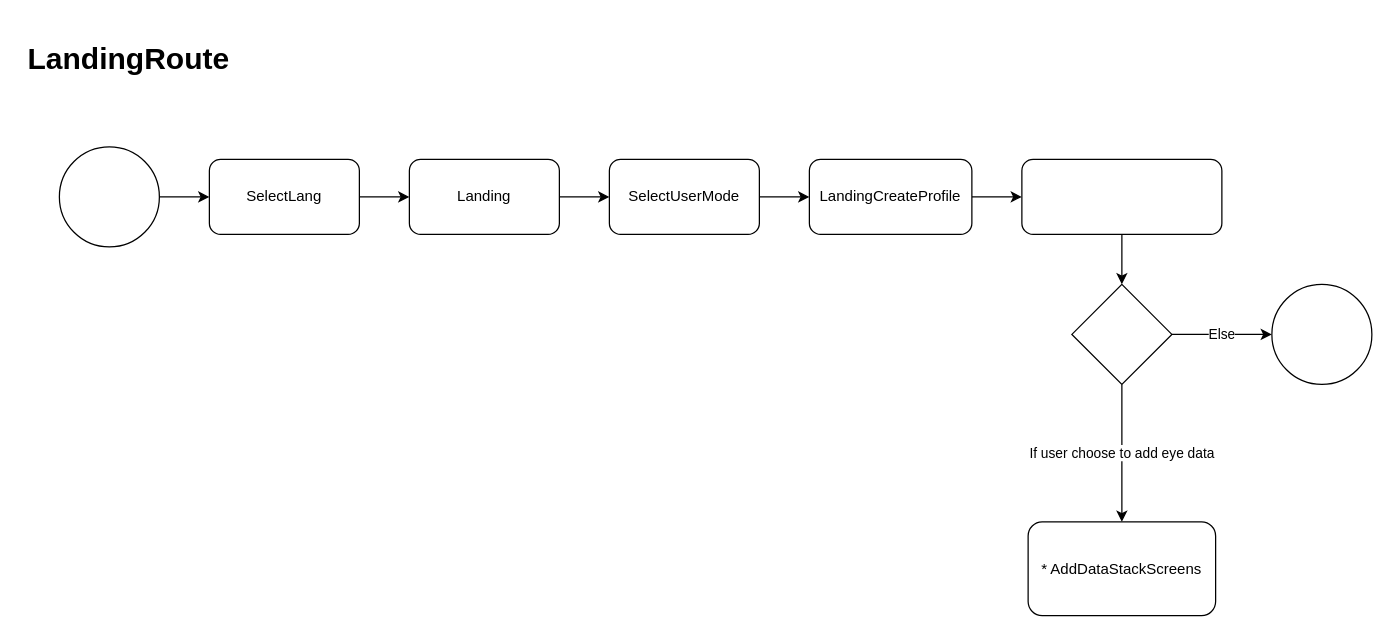
Some shapes in this 1394 by 638 pixel diagram are drawn without their labels. The box of each missing label's shape, as (x1, y1, x2, y2) in pixels:
End: (1271, 283, 1372, 384)
LandingAddDataPrompt: (1021, 158, 1222, 234)
Start: (58, 146, 159, 247)
